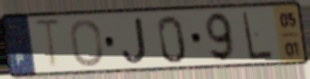0: (155, 13, 189, 65)
9: (201, 10, 237, 64)
J: (120, 16, 149, 66)
L: (240, 9, 275, 62)
O: (68, 18, 105, 69)
T: (32, 17, 64, 72)
